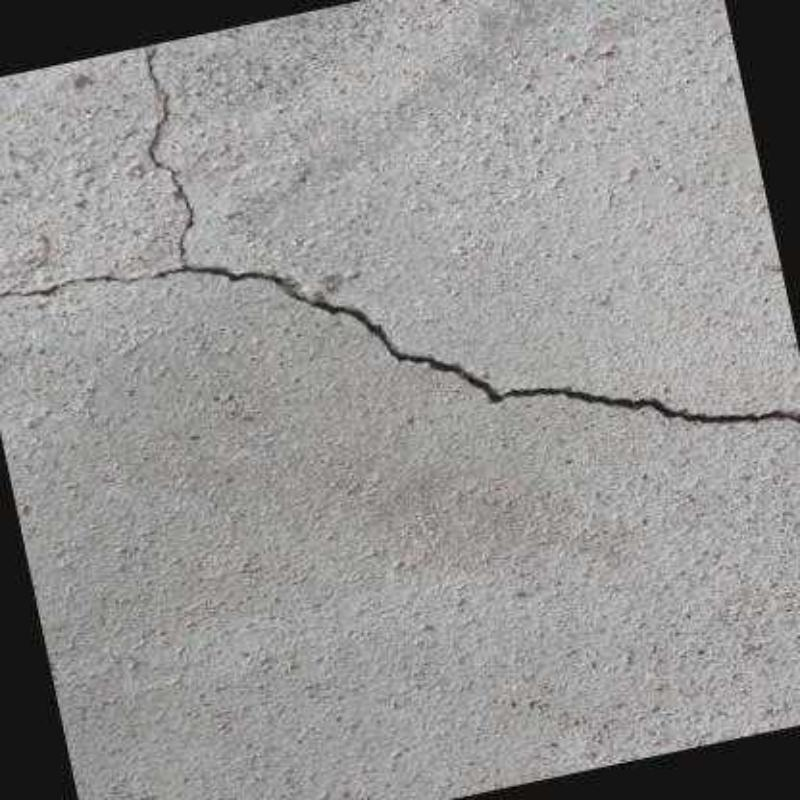pothole: (0, 44, 798, 427)
